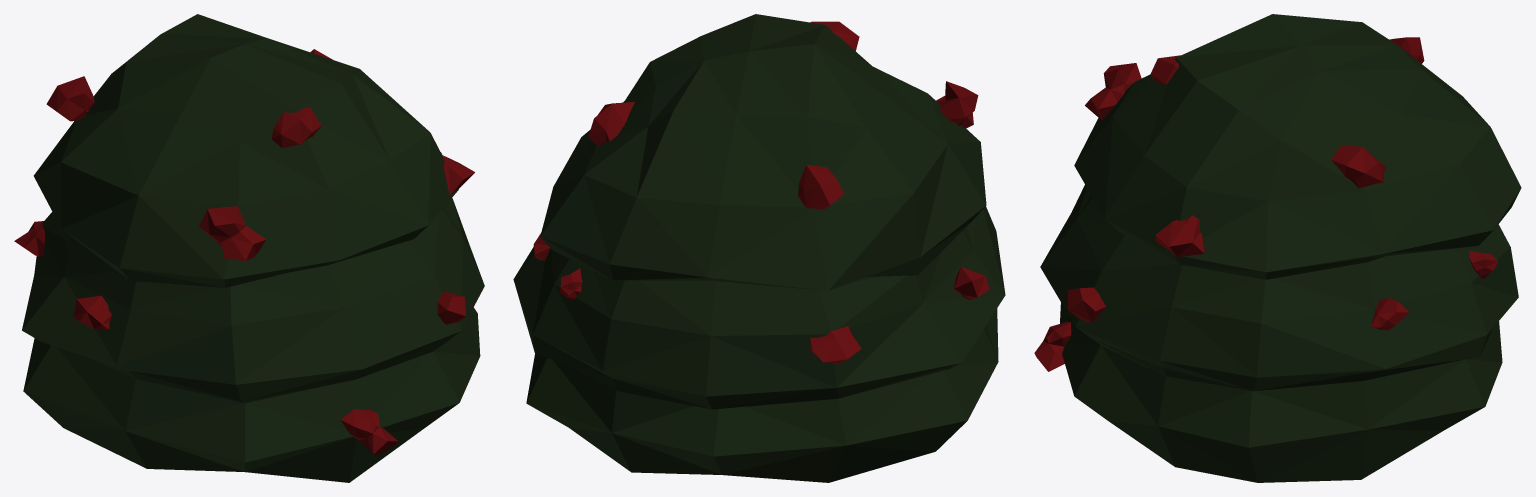
The model's file is BushBerries_2.obj.
3 views of the same model, side by side, from view 1: azimuth 30°, elevation 25°; view 2: azimuth 150°, elevation 25°; view 3: azimuth 270°, elevation 25° (orthographic). The views are drawn at different scales.
Parts seen in each view (by area): view 1: BushBerries_2; view 2: BushBerries_2; view 3: BushBerries_2.
Part boxes in pixels (x1=…): BushBerries_2: x1=14, y1=14, x2=484, y2=482; BushBerries_2: x1=513, y1=14, x2=1005, y2=482; BushBerries_2: x1=1034, y1=14, x2=1521, y2=482.
Bounding box in the file's own units: 1.34 × 1.13 × 1.33.
